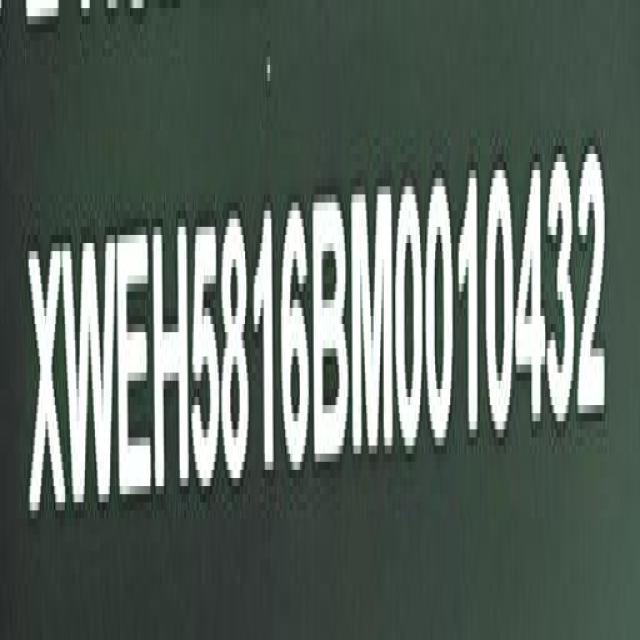0: (426, 172, 456, 454), (396, 181, 426, 459), (485, 169, 514, 447)
1: (254, 212, 278, 487), (459, 166, 482, 451)
2: (577, 152, 607, 432)
3: (546, 154, 574, 432)
4: (515, 160, 546, 437)
5: (192, 215, 222, 497)
6: (282, 199, 313, 476)
8: (220, 213, 250, 489)
B: (313, 190, 349, 468)
E: (118, 230, 154, 513)
H: (156, 220, 190, 501)
M: (352, 180, 394, 464)
W: (60, 240, 118, 518)
X: (28, 243, 64, 531)
